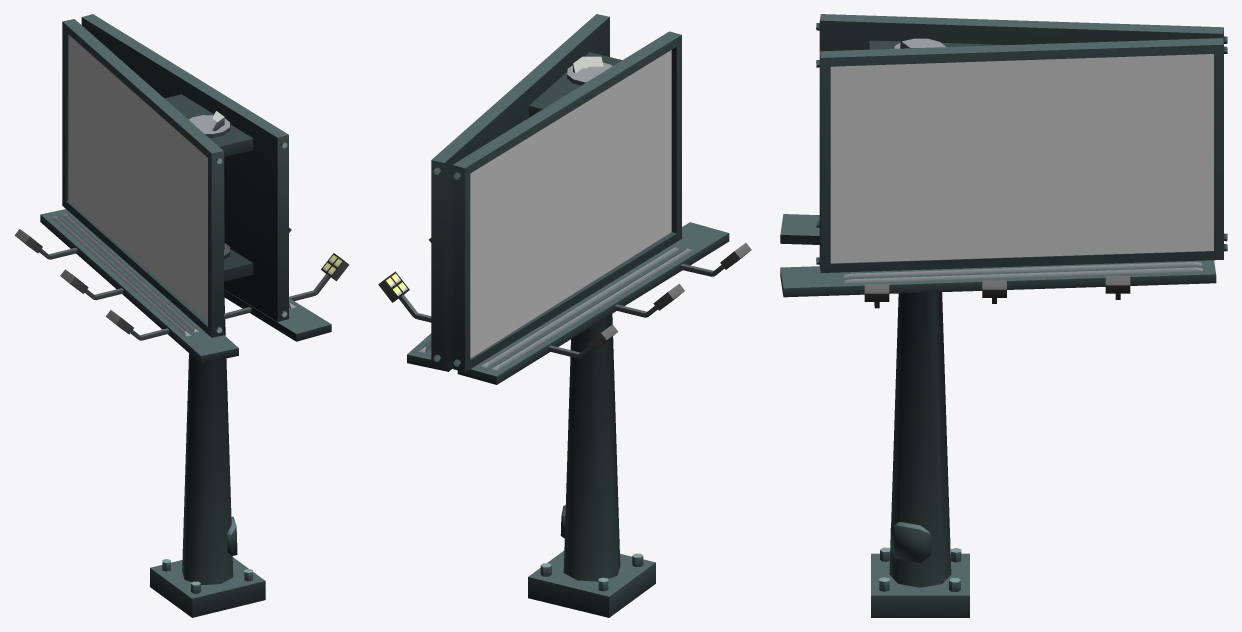
File: dim.fbx
The picture shows the model from 3 angles, left to right: view 1: azimuth 30°, elevation 25°; view 2: azimuth 150°, elevation 25°; view 3: azimuth 270°, elevation 25°; orthographic projection. The views are drawn at different scales.
Parts seen in each view (by area): view 1: Billboard_5, banner_3; view 2: Billboard_5, banner_3; view 3: banner_2, Billboard_5.
Part boxes in pixels (left/top/right/bottom): Billboard_5: left=14, top=14, right=349, bottom=617; banner_3: left=68, top=34, right=207, bottom=320; Billboard_5: left=378, top=14, right=751, bottom=617; banner_3: left=470, top=50, right=671, bottom=358; banner_2: left=830, top=54, right=1213, bottom=263; Billboard_5: left=780, top=14, right=1227, bottom=617.
Bounding box in the file's own units: 196 × 382 × 276.
